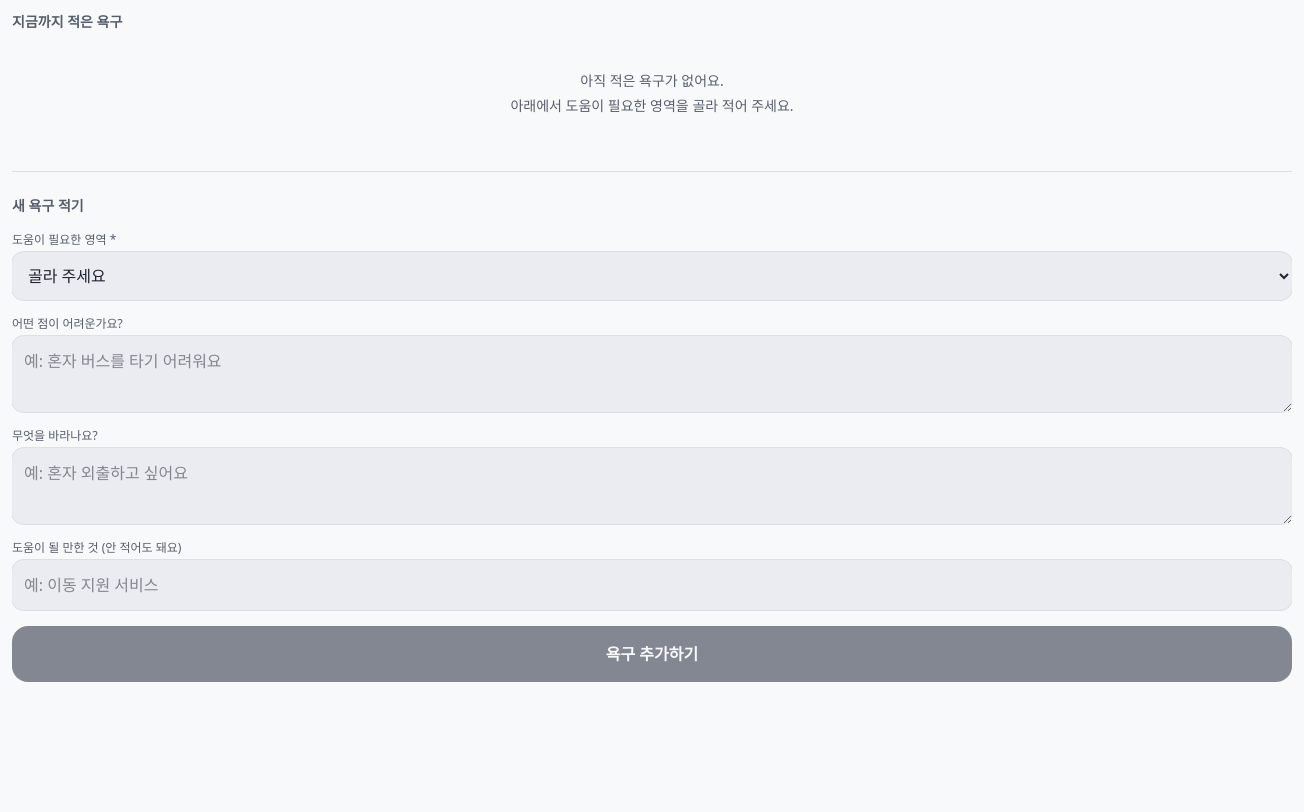
Scenario: AssessmentClient — 욕구사정 화면(실무자) › 생성 에러: 액션이 error 를 돌려주면 화면에 보여주고 새로고침하지 않는다
Select "일상생활" in the dropdown labelled "도움이 필요한 영역 *" at [652, 276], box x1=12 y1=252 x2=1292 y2=300
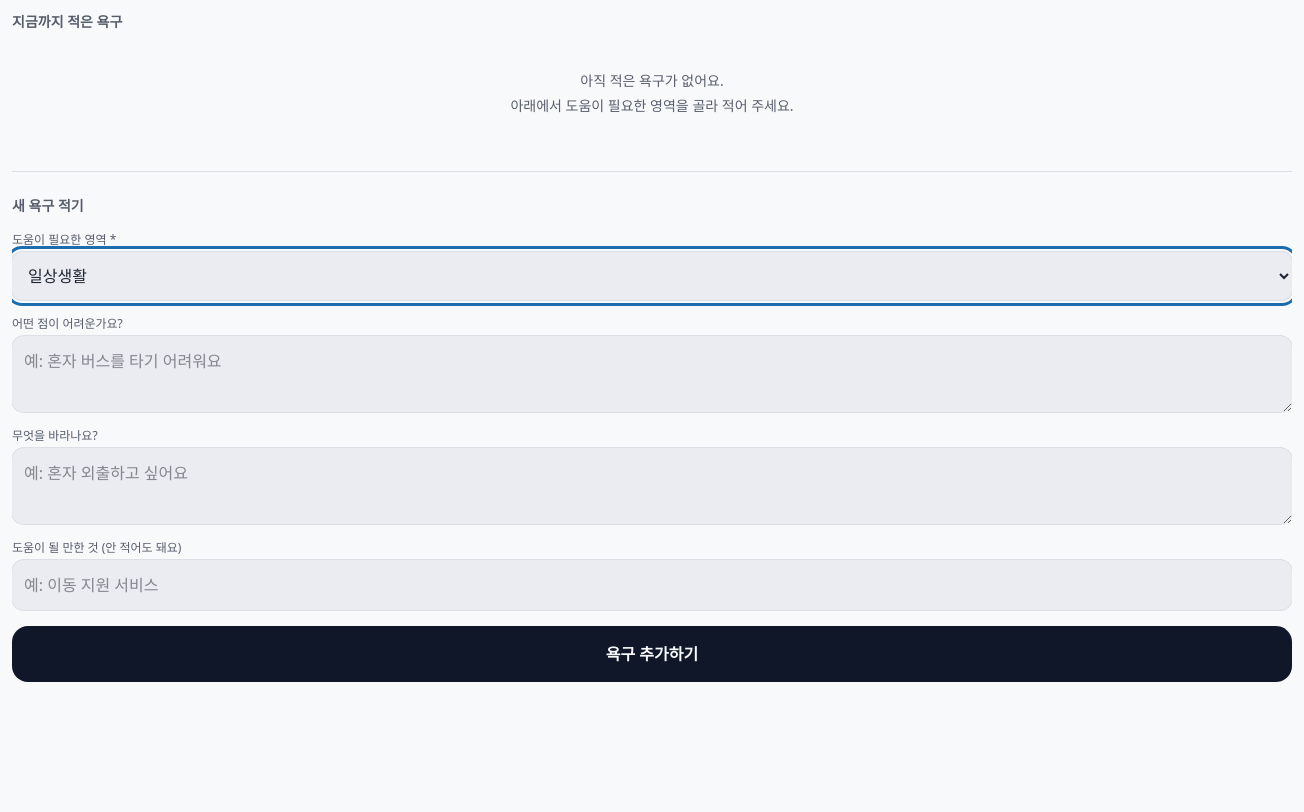
Click the button "욕구 추가하기" at [652, 654], box x1=12 y1=626 x2=1292 y2=682
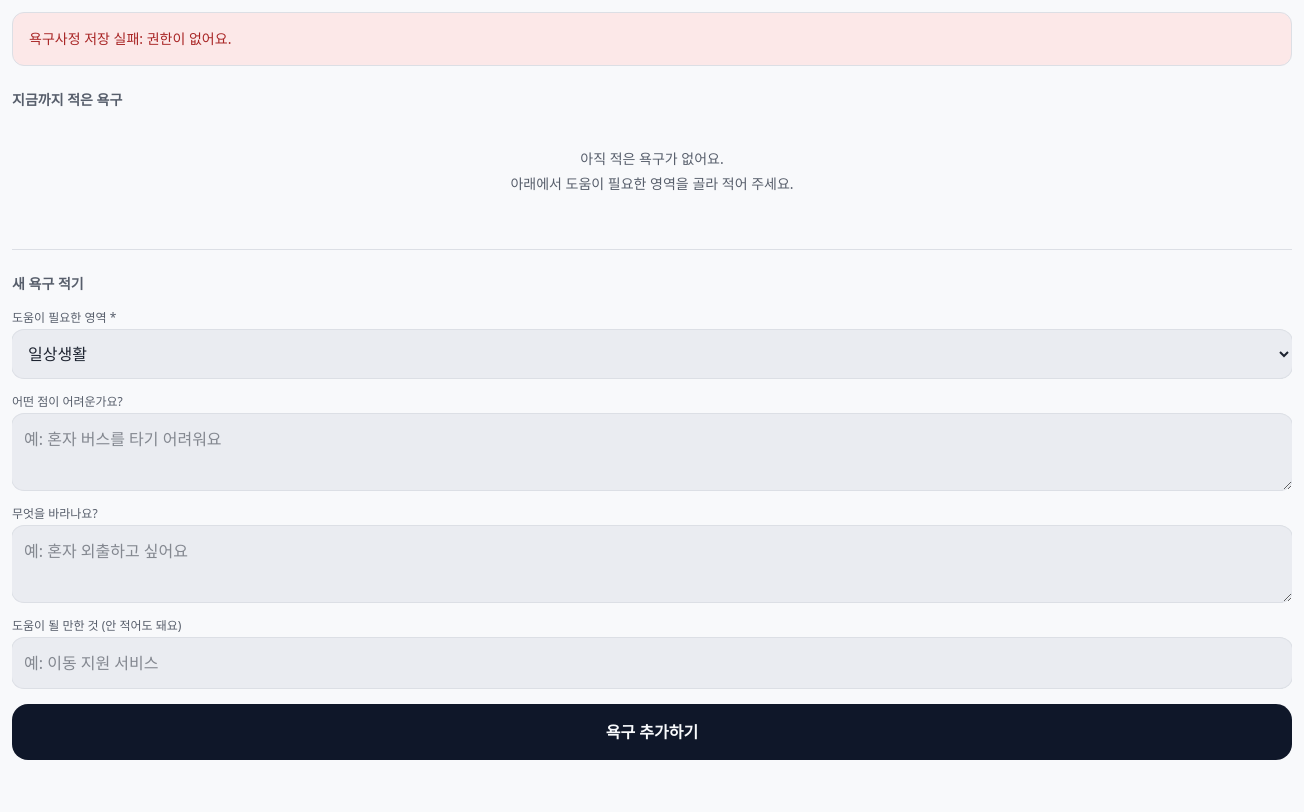
Check: the text "욕구사정 저장 실패: 권한이 없어요." is shown, box x1=12 y1=12 x2=1292 y2=66
